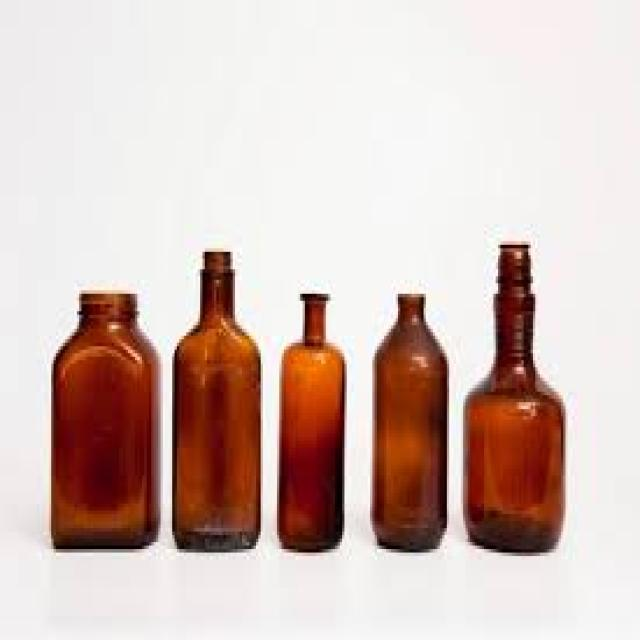Glass: (464, 245, 566, 559), (51, 294, 160, 551), (173, 250, 262, 550), (371, 291, 448, 554), (274, 294, 346, 554)
